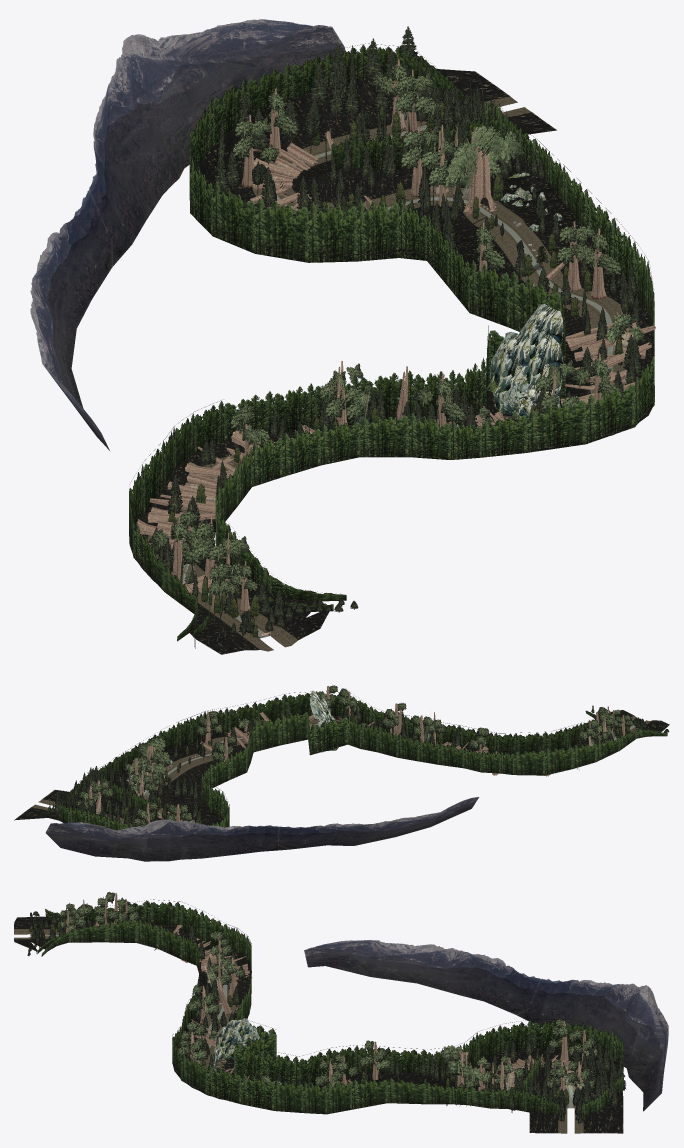
Rendered from stage-sequ.glb.
The picture shows the model from 3 angles, top to bottom: view 1: azimuth 30°, elevation 25°; view 2: azimuth 150°, elevation 25°; view 3: azimuth 270°, elevation 25°; orthographic projection. The views are drawn at different scales.
Visible parts, largest first — view 1: part 1, part 2, part 4, part 0; view 2: part 2, part 1, part 4, part 0; view 3: part 1, part 2, part 4, part 0.
Boxes of the visible parts, x1,y1,x2,y2 form: part 1: (30, 19, 655, 654); part 2: (129, 26, 654, 648); part 4: (456, 172, 563, 427); part 0: (169, 124, 614, 637); part 2: (46, 691, 669, 830); part 1: (14, 685, 669, 861); part 4: (120, 690, 338, 782); part 0: (121, 723, 635, 824); part 1: (14, 892, 668, 1133); part 2: (27, 899, 626, 1123); part 4: (212, 1018, 456, 1106); part 0: (30, 934, 574, 1108).
Size of the model in its own units: 2664 by 443 by 3288.
Materials: 56 (55 with a texture image).
